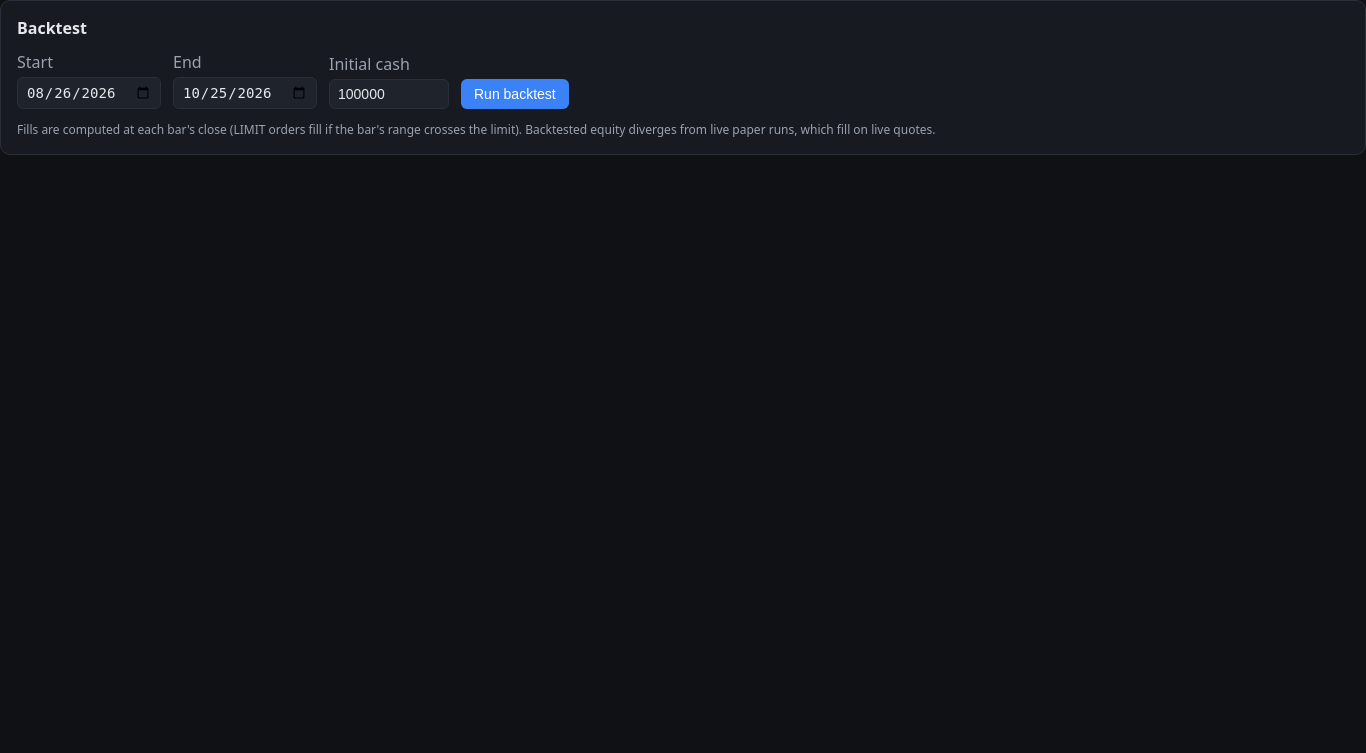
Scenario: BacktestPanel v2 records › renders the extended stats returned by the API
Click the button "Run backtest" at (515, 94), box [461,79,569,109]
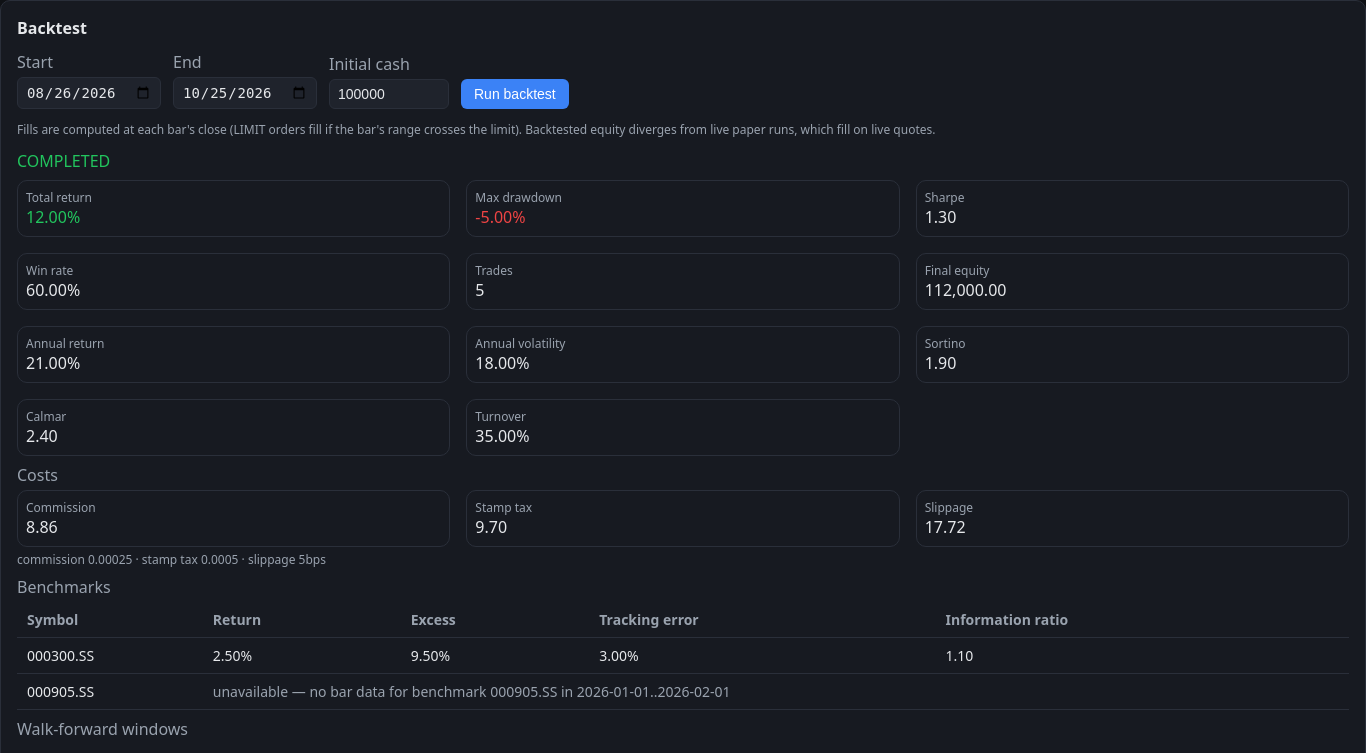
expect the text "COMPLETED" is shown: met, box [17,150,110,172]
expect the text "Annual return" is shown: met, box [26,335,104,352]
expect the text "Sortino" is shown: met, box [925,335,966,352]
